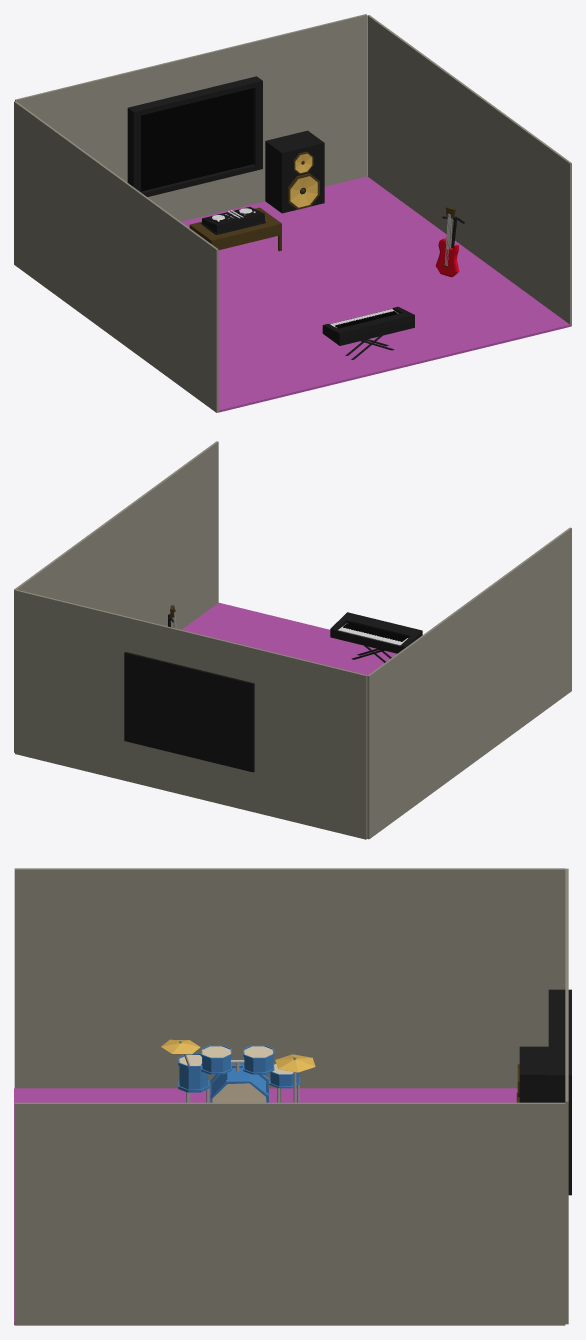
Rendered from dj_minigame2.fbx.
3 renders of one model, top to bottom at view 1: azimuth 30°, elevation 25°; view 2: azimuth 150°, elevation 25°; view 3: azimuth 270°, elevation 25°, orthographic. The views are drawn at different scales.
Visible parts, largest first — view 1: Cube.001, Cube, Cube.002, Cube.004, Cube.019, Cube.016, Cube.003, Cube.006, Cube.008; view 2: Cube.001, Cube.002, Cube.004, Cube, Cube.016; view 3: Cube.001, Cube, Cube.004, Cube.002, Cube.005, Cylinder.001, Cylinder.013, Cylinder, Cylinder.002.
Boxes of the visible parts, x1,y1,x2,y2 form: Cube.001: [14, 15, 571, 412]; Cube: [181, 176, 570, 412]; Cube.002: [15, 14, 366, 221]; Cube.004: [127, 76, 262, 196]; Cube.019: [265, 130, 324, 213]; Cube.016: [322, 306, 414, 345]; Cube.003: [189, 207, 281, 251]; Cube.006: [200, 207, 265, 234]; Cube.008: [435, 238, 459, 277]; Cube.001: [14, 441, 571, 839]; Cube.002: [15, 589, 367, 839]; Cube.004: [124, 652, 254, 772]; Cube: [182, 602, 396, 675]; Cube.016: [330, 612, 422, 653]; Cube.001: [14, 868, 565, 1325]; Cube: [14, 1088, 517, 1324]; Cube.004: [548, 989, 571, 1195]; Cube.002: [565, 868, 568, 1324]; Cube.005: [516, 1046, 548, 1102]; Cylinder.001: [210, 1064, 268, 1102]; Cylinder.013: [178, 1053, 209, 1092]; Cylinder: [243, 1045, 274, 1074]; Cylinder.002: [201, 1045, 231, 1074].
Size of the model in its own units: 1852 by 907 by 1852.
